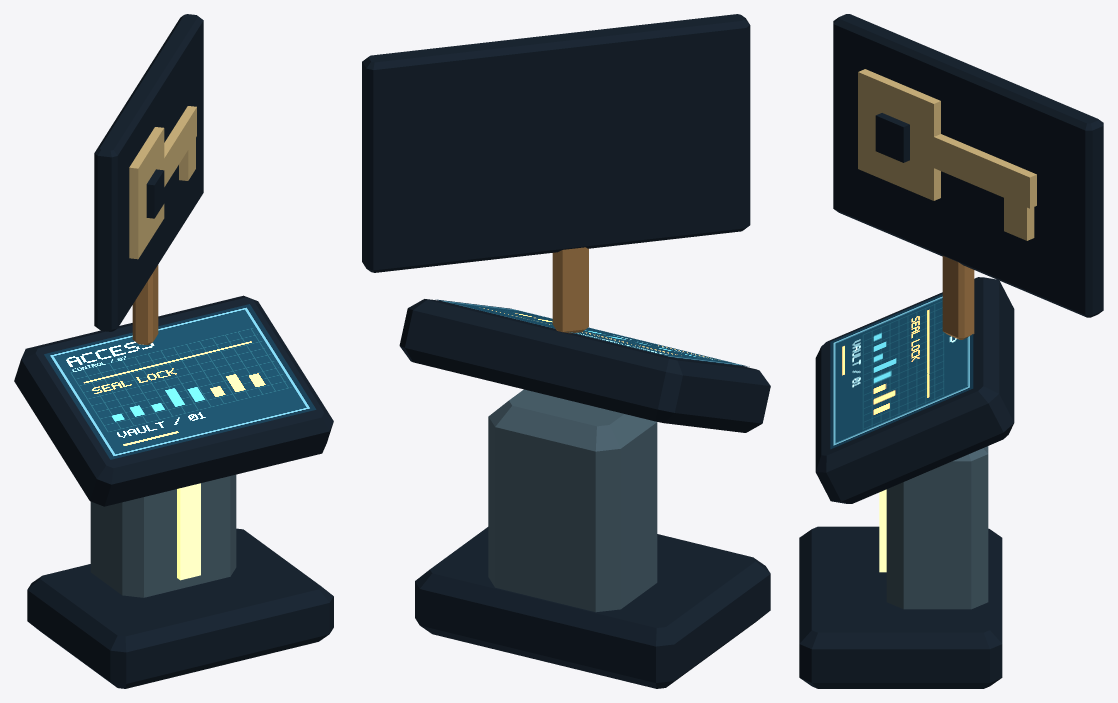
File: access-console.gltf
The picture shows the model from 3 angles, left to right: view 1: azimuth 30°, elevation 25°; view 2: azimuth 150°, elevation 25°; view 3: azimuth 270°, elevation 25°; orthographic projection. The views are drawn at different scales.
Parts seen in each view (by area): view 1: console, screen-locked, key-marker, screen; view 2: key-marker, console, screen, screen-locked; view 3: key-marker, console, screen, screen-locked.
Part boxes in pixels (box(x1,y1,x2,y2)): console: box(27, 474, 333, 688); screen-locked: box(44, 304, 316, 459); key-marker: box(94, 14, 203, 344); screen: box(14, 295, 333, 506); key-marker: box(362, 14, 750, 333); console: box(415, 389, 770, 688); screen: box(399, 299, 770, 432); screen-locked: box(435, 299, 749, 366); key-marker: box(833, 14, 1103, 339); console: box(799, 446, 1002, 688); screen: box(815, 277, 1014, 503); screen-locked: box(830, 294, 973, 449).
Size of what is drawn, in the model's own units: 0.52 by 1.11 by 0.5396.
3 materials, 1 textured.
